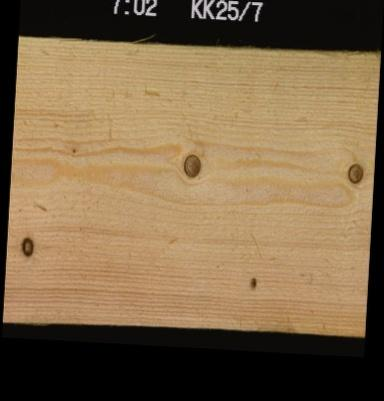dry_knot: (179, 151, 201, 179), (344, 159, 363, 184), (16, 234, 35, 257)
small_knot: (244, 273, 257, 289)
